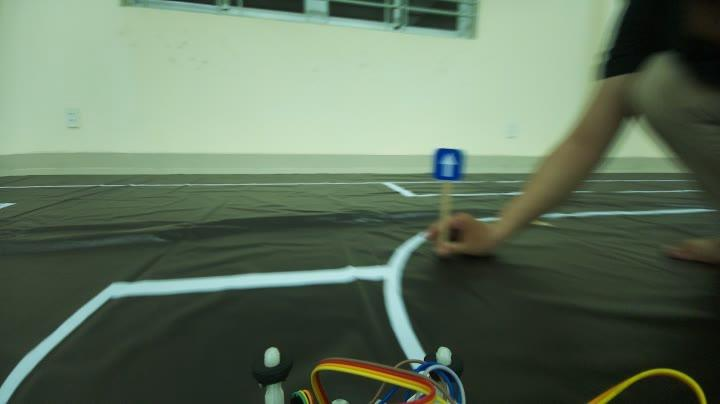onewayroad: (426, 139, 468, 186)
